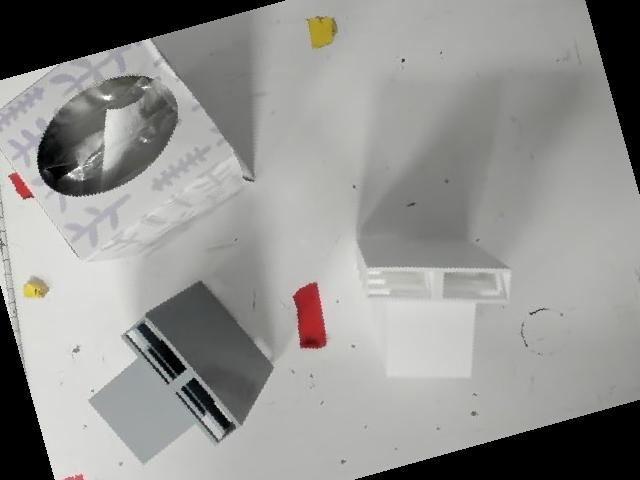grey pallet: (81, 275, 309, 473)
white pallet: (338, 218, 531, 398)
